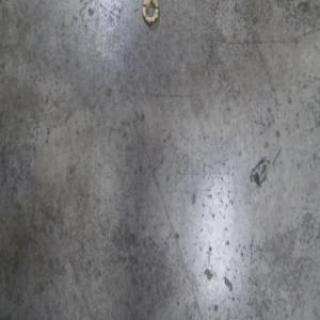Nuttrack_idkeyframe: (141, 0, 159, 27)
